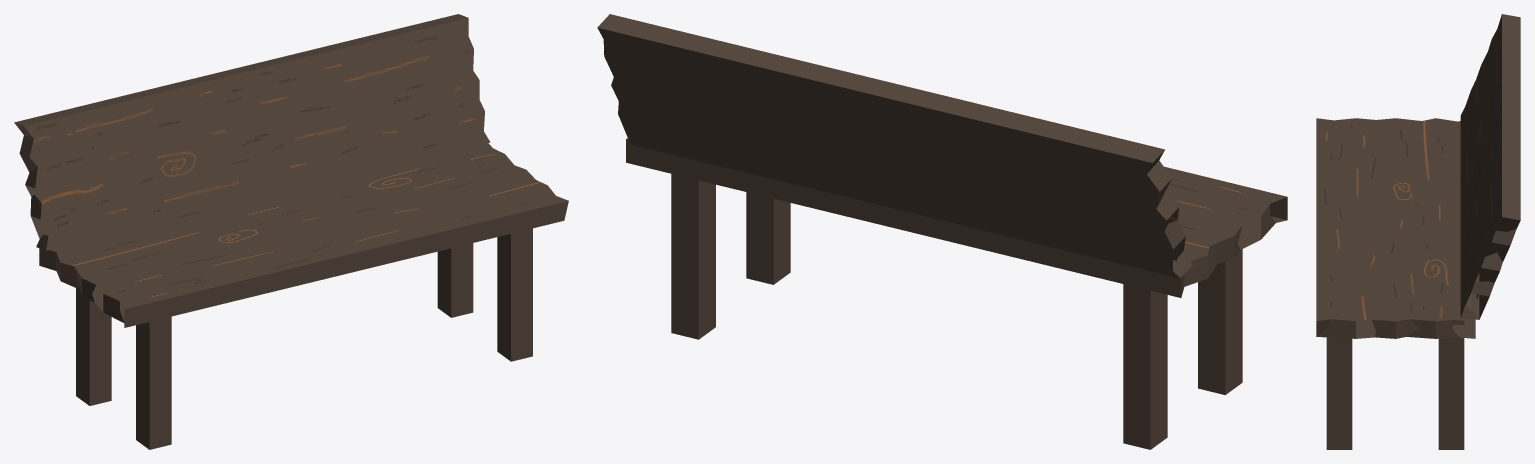
The model's file is silla   .fbx.
The picture shows the model from 3 angles, left to right: view 1: azimuth 30°, elevation 25°; view 2: azimuth 150°, elevation 25°; view 3: azimuth 270°, elevation 25°; orthographic projection. The views are drawn at different scales.
Visible parts, largest first — view 1: silla_pintar_; view 2: silla_pintar_; view 3: silla_pintar_.
Part boxes in pixels (left/top/right/bottom): silla_pintar_: left=14, top=14, right=568, bottom=449; silla_pintar_: left=597, top=14, right=1287, bottom=449; silla_pintar_: left=1316, top=14, right=1520, bottom=449.
Size of the model in its own units: 2697 by 1521 by 1145.
Materials: 3 (3 with a texture image).
